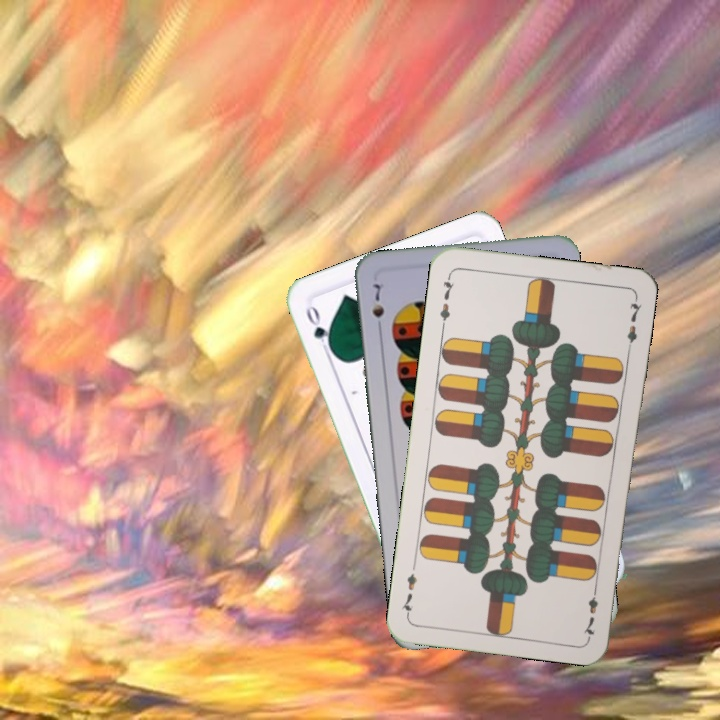E7: (579, 580, 601, 640), (436, 270, 457, 329)
GO: (302, 300, 336, 358)
S7: (368, 279, 387, 335)
